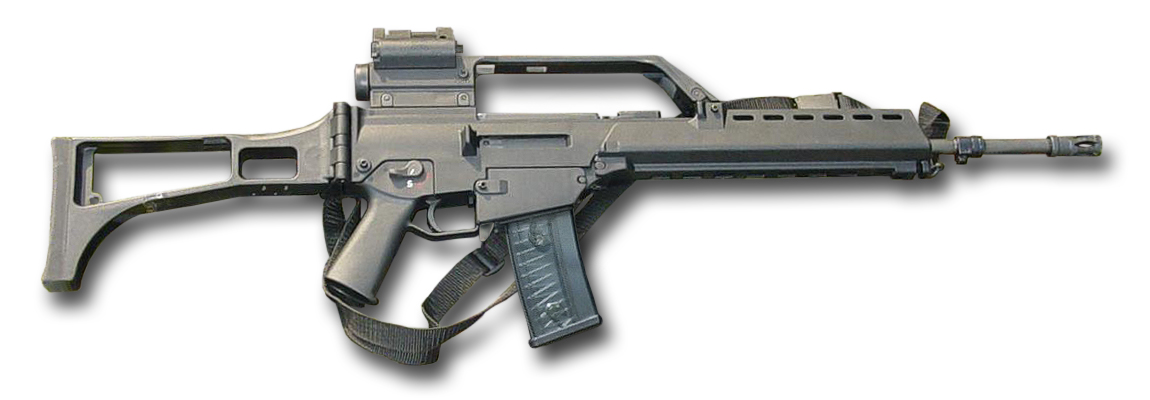Arma Real: (40, 21, 1104, 355)
